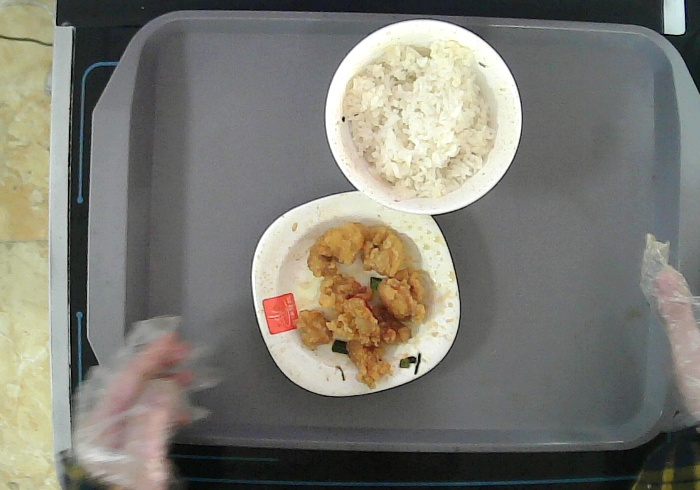SHKJ-Bai_Se_Si_Fang_Cai_Die: (250, 185, 463, 403)
SHKJ-Fan_Wan: (322, 18, 525, 217)
